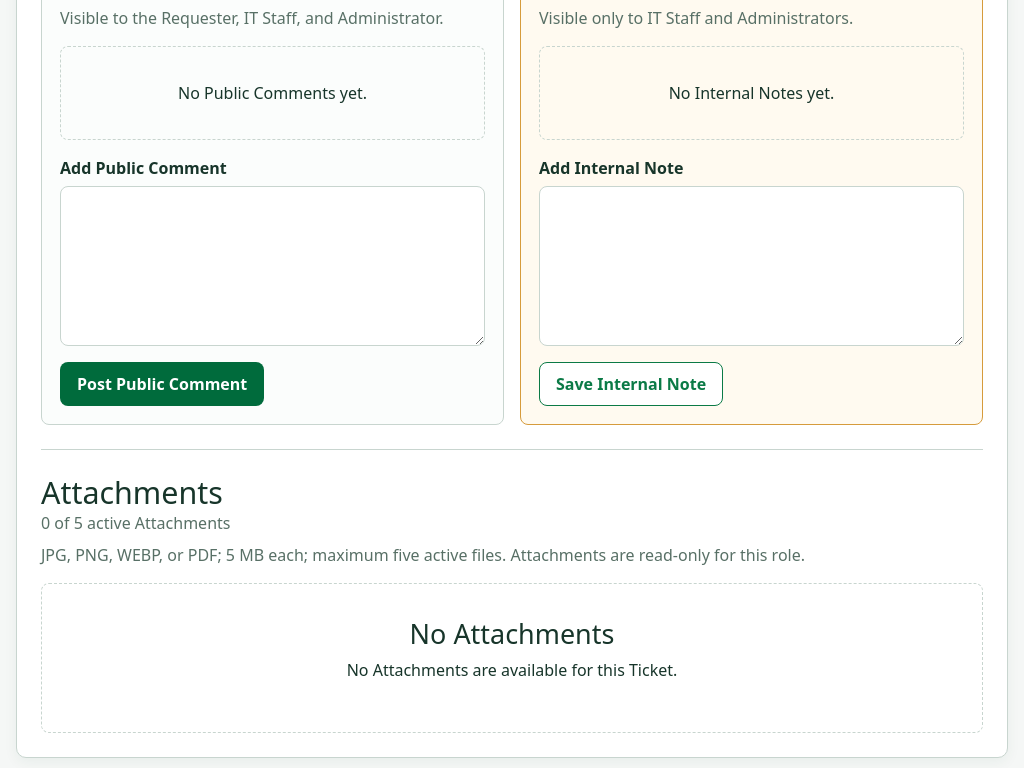
Test: IT Staff Ticket Detail › validates blank communication entries
The image size is (1024, 768).
(page scrolled)
What coordinates should you click on to do the following:
click the button "Post Public Comment"
I would click on:
 (162, 384)
Its box is top-left (60, 362), bottom-right (264, 406).
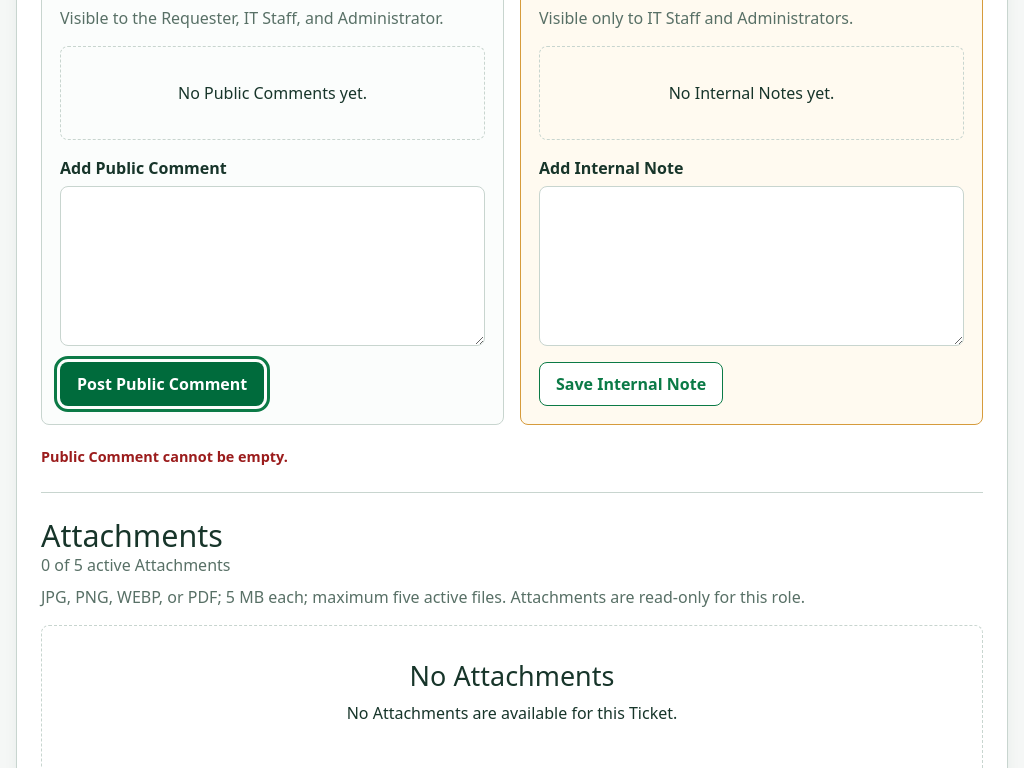
Check: the message shows "Public Comment cannot be empty", box top-left (41, 447), bottom-right (288, 466)
